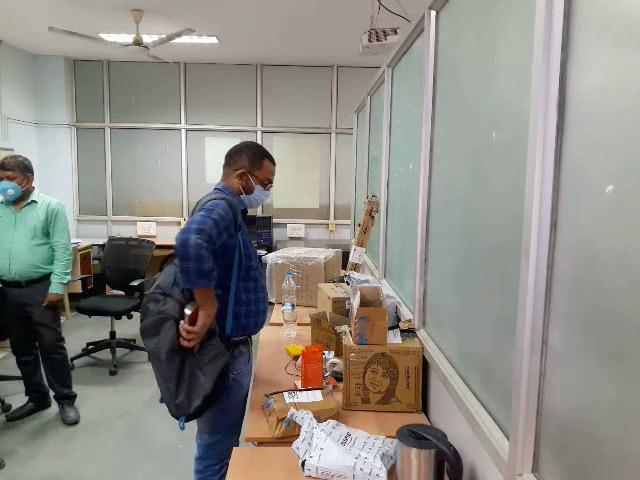shoplifting: (107, 237, 283, 428)
